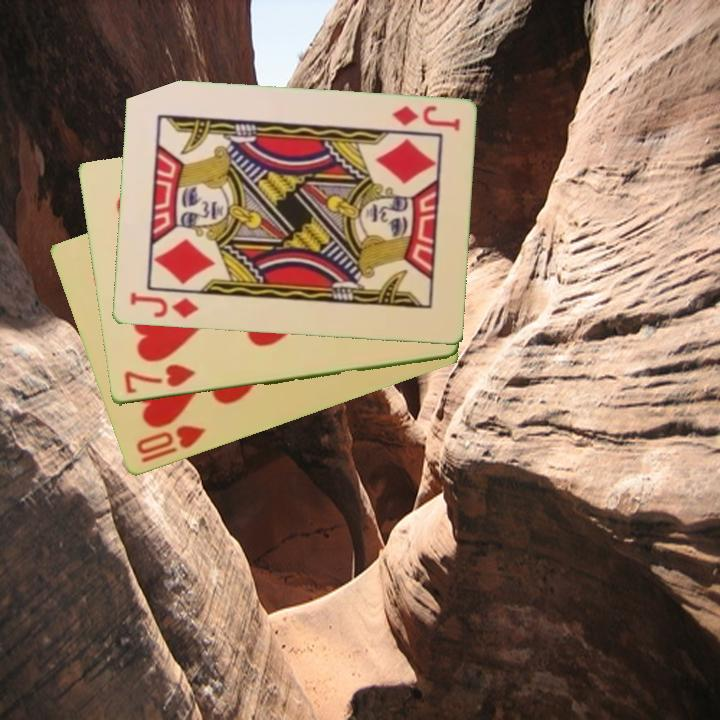10h: (132, 422, 208, 466)
7h: (120, 361, 198, 397)
Jd: (126, 289, 201, 322), (388, 102, 463, 135)
